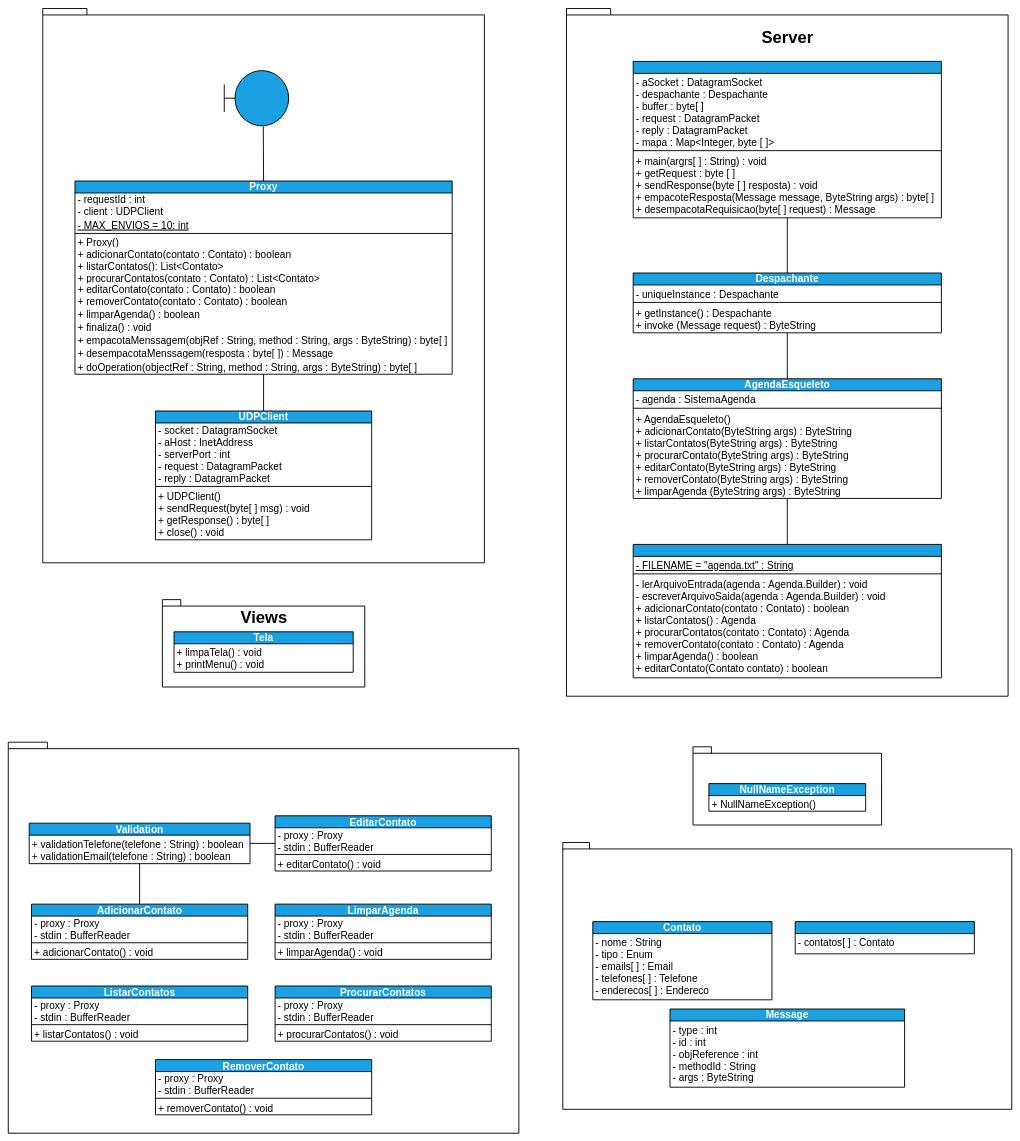
This 1020x1141 diagram has some shape labels left out. Here are the shapes that lost their labels. From the top down, the box of each, then its label:
(224, 70, 289, 126): User
(632, 61, 942, 218): UDPServer
(42, 8, 485, 563): Cliente
(632, 544, 942, 678): SistemaAgenda
(692, 746, 882, 825): Execptions
(8, 742, 519, 1133): UseCases
(795, 921, 975, 954): Agenda
(562, 842, 1012, 1110): Protos
